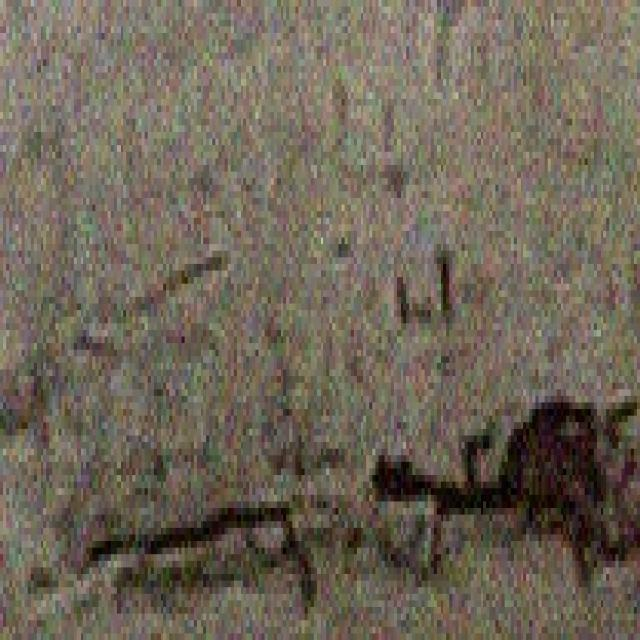crack: (92, 436, 280, 568)
